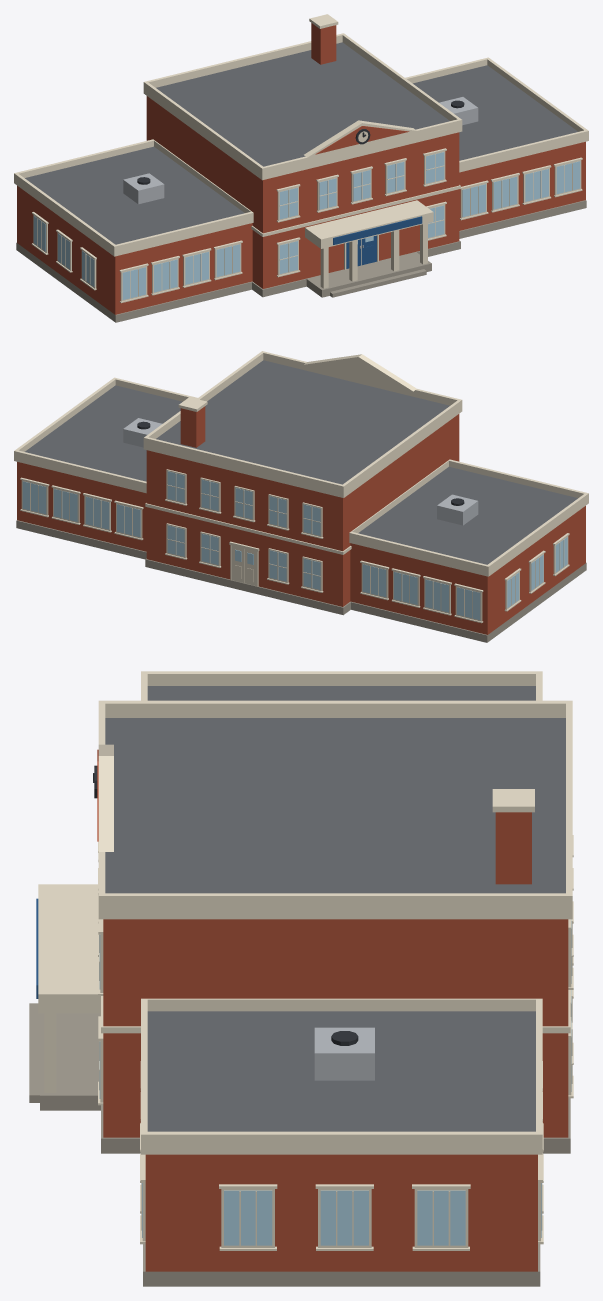
File: bld_school.glb
3 renders of one model, top to bottom at view 1: azimuth 30°, elevation 25°; view 2: azimuth 150°, elevation 25°; view 3: azimuth 270°, elevation 25°, orthographic. The views are drawn at different scales.
Parts seen in each view (by area): view 1: bld_school; view 2: bld_school; view 3: bld_school.
Part boxes in pixels (bbox=[...]): bld_school: bbox=[14, 14, 588, 322]; bld_school: bbox=[14, 351, 588, 642]; bld_school: bbox=[29, 671, 573, 1286].
Size of the model in its own units: 36.36 by 11.8 by 18.03.
